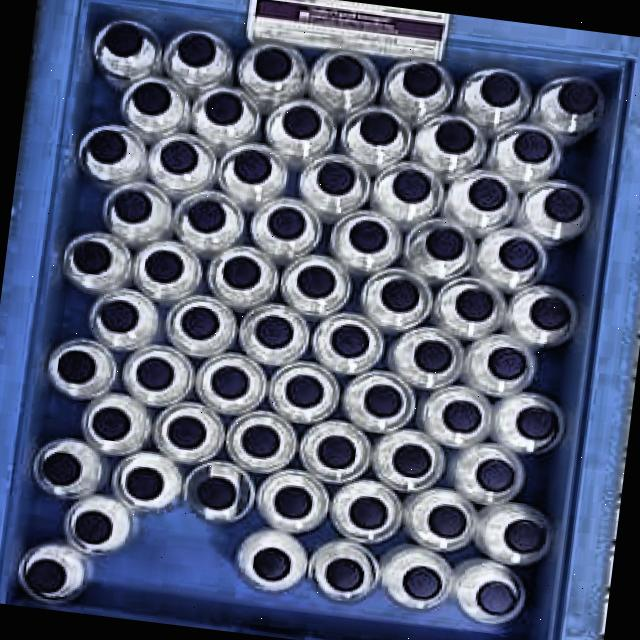vial: (23, 555, 69, 595), (466, 173, 511, 212), (140, 247, 185, 286), (450, 285, 496, 323), (185, 196, 228, 236), (121, 464, 166, 502), (178, 303, 224, 340), (39, 450, 83, 488), (474, 579, 518, 617), (526, 294, 571, 331), (70, 239, 115, 276), (108, 188, 154, 224), (441, 397, 482, 437), (391, 441, 433, 480), (475, 455, 517, 494), (85, 127, 127, 166), (390, 167, 433, 205), (555, 77, 598, 115), (220, 252, 261, 291), (295, 263, 337, 301), (280, 104, 322, 142), (401, 563, 444, 600), (485, 344, 528, 381), (478, 71, 521, 108), (497, 236, 541, 272), (544, 185, 584, 224), (315, 160, 356, 198), (252, 45, 293, 83), (253, 313, 295, 350), (514, 404, 556, 441), (347, 218, 389, 255), (70, 509, 113, 545), (422, 226, 465, 262), (157, 139, 200, 175), (251, 546, 292, 583), (504, 517, 545, 554), (90, 405, 131, 442), (357, 110, 398, 147), (412, 336, 454, 372), (402, 62, 444, 98), (425, 503, 468, 538), (165, 415, 208, 450), (329, 323, 369, 360), (232, 149, 272, 186), (272, 484, 313, 520), (130, 80, 171, 116), (512, 130, 555, 164), (134, 355, 173, 392), (57, 348, 97, 384), (240, 423, 280, 459), (379, 276, 419, 312), (176, 32, 216, 68), (323, 557, 364, 592), (208, 365, 249, 400), (265, 205, 306, 240), (202, 91, 243, 126), (284, 373, 323, 409), (435, 118, 474, 154), (347, 495, 388, 529), (98, 299, 139, 333), (316, 434, 357, 468), (360, 383, 401, 417), (105, 22, 144, 57), (326, 54, 363, 90), (196, 475, 236, 507)
